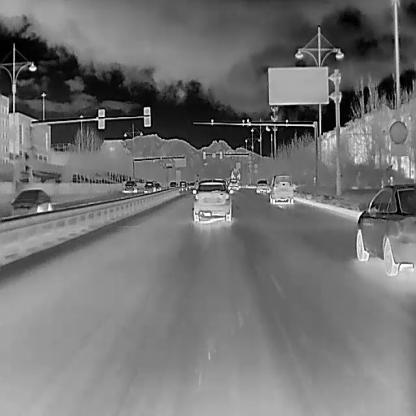car: (355, 183, 415, 276), (191, 179, 233, 223), (10, 188, 51, 214), (269, 173, 295, 205), (255, 179, 271, 193), (124, 180, 137, 193), (230, 167, 241, 182), (143, 181, 155, 193), (227, 177, 238, 190), (168, 180, 177, 189), (179, 179, 185, 191), (153, 182, 161, 190), (185, 181, 190, 189), (189, 181, 194, 187)
